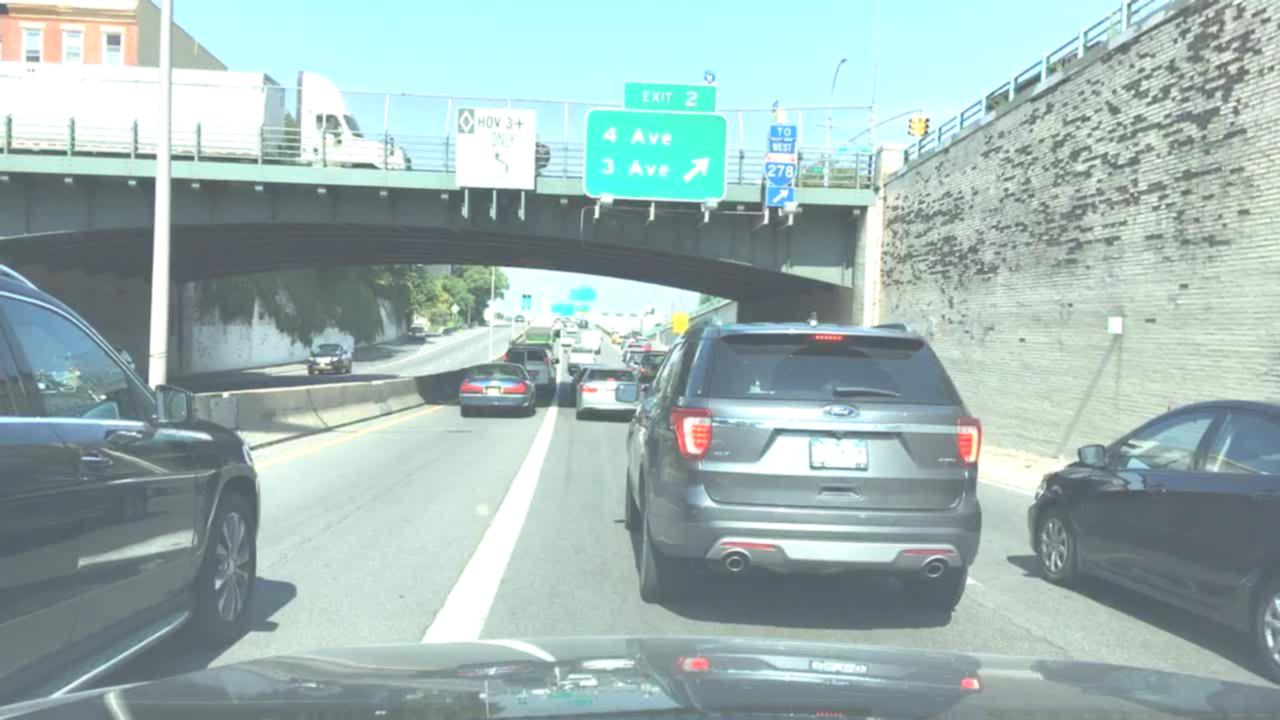ford: (819, 401, 858, 422)
